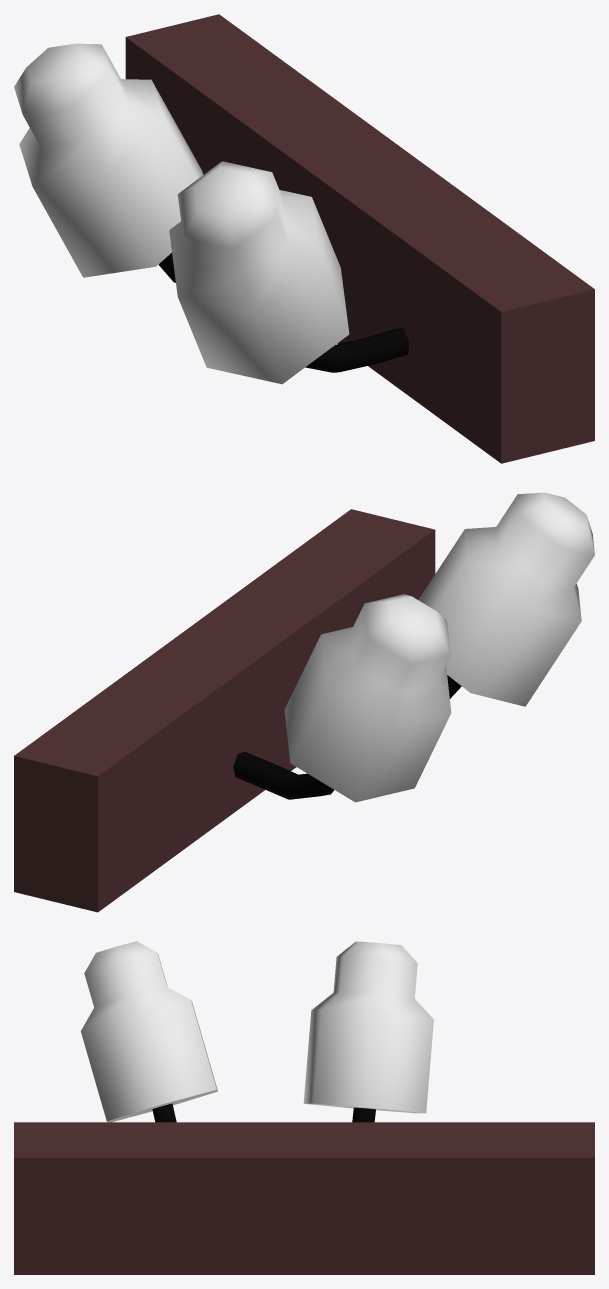
File: ElectricityGarage.fbx
3 renders of one model, top to bottom at view 1: azimuth 30°, elevation 25°; view 2: azimuth 150°, elevation 25°; view 3: azimuth 270°, elevation 25°, orthographic. The views are drawn at different scales.
Parts seen in each view (by area): view 1: Electricity; view 2: Electricity; view 3: Electricity.
Part boxes in pixels (left/top/right/bottom): Electricity: left=14, top=14, right=594, bottom=463; Electricity: left=14, top=492, right=594, bottom=912; Electricity: left=14, top=941, right=594, bottom=1274.
Size of the model in its own units: 20.64 by 16.83 by 39.32.
